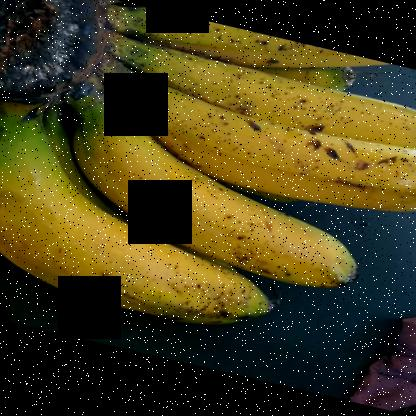ripe: (62, 80, 366, 288), (0, 106, 270, 319), (135, 86, 415, 210), (126, 42, 415, 140)
